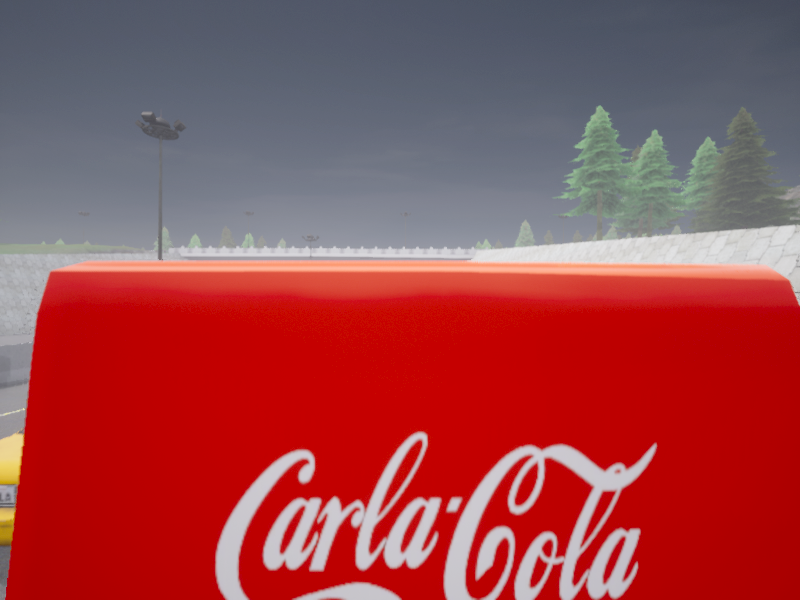vehicle: (6, 261, 799, 599), (0, 428, 23, 545)
